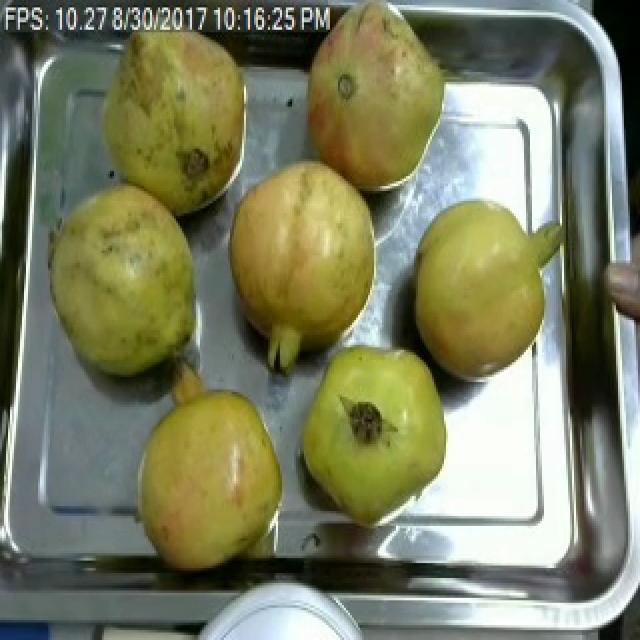fruit: (34, 161, 210, 392), (220, 146, 388, 384), (82, 2, 258, 224), (120, 365, 294, 578), (296, 0, 456, 203), (292, 332, 452, 534), (402, 188, 560, 390)
